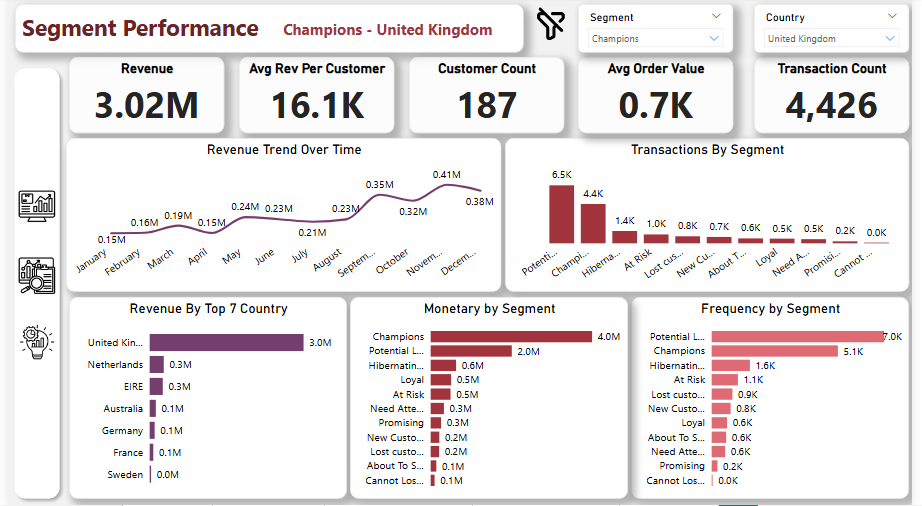

The page's visual inventory and layout, read from the dashboard file:
{"tool":"powerbi","page":{"name":"Segment Per.","canvas":[1280,720],"ordinal":1},"visuals":[{"type":"textbox","box":[9.9,9.9,721.4,69.4],"z":0},{"type":"card","title":"Revenue","fields":{"Values":["All_Measures.Sales"]},"box":[86.5,85,219.7,107.7],"z":1000},{"type":"card","title":"Customer Count","fields":{"Values":["All_Measures.Customer Count"]},"box":[567.6,85,219.7,107.7],"z":2000},{"type":"card","title":"Transaction Count","fields":{"Values":["All_Measures.Transaction Count"]},"box":[1057.3,85,219.7,107.7],"z":3000},{"type":"card","title":"Avg Rev Per Customer","fields":{"Values":["All_Measures.Avg Revenue Per Customer"]},"box":[327,85,219.7,107.7],"z":4000},{"type":"actionButton","box":[360,18.4,357.2,53.9],"z":5000},{"type":"shape","box":[0,92.1,82.2,627.9],"z":5000,"group":"g1"},{"type":"lineChart","title":"Revenue Trend Over Time","fields":{"Y":["All_Measures.Revenue"],"Category":["Online_Retail.InvoiceDate.Variation.Date Hierarchy.Month"]},"box":[82.2,199.8,616.5,218.3],"z":6000},{"type":"clusteredColumnChart","title":"Transactions By Segment","fields":{"Y":["All_Measures.Transaction Count"],"Category":["Segments.Segment"]},"box":[704.4,199.8,572.6,218.3],"z":7000},{"type":"card","title":"Avg Order Value","fields":{"Values":["All_Measures.Avg Order Value"]},"box":[808.2,85,219.7,107.7],"z":8000},{"type":"clusteredBarChart","title":"Revenue By Top 7 Country","fields":{"Category":["Online_Retail.Country"],"Y":["All_Measures.Revenue"]},"box":[86.5,425.2,394,286.3],"z":9000},{"type":"slicer","fields":{"Values":["Segments.Segment"]},"box":[807.9,9.9,219.7,69.4],"z":10000},{"type":"slicer","fields":{"Values":["Online_Retail.Country"]},"box":[1057.3,9.9,219.7,69.4],"z":11000},{"type":"image","box":[738.4,9.9,62.4,62.4],"z":12000},{"type":"clusteredBarChart","title":"Frequency by Segment","fields":{"Category":["Segments.Segment"],"Y":["Sum(RFM Table.F Value)"]},"box":[883,425.2,394,286.3],"z":13000},{"type":"clusteredBarChart","title":"Monetary by Segment","fields":{"Category":["Segments.Segment"],"Y":["Sum(RFM Table.M Value)"]},"box":[484.7,425.2,394,286.3],"z":14000},{"type":"group","id":"g1","title":"Group 1","box":[0,92.1,82.2,627.9],"z":15000},{"type":"image","box":[9.9,256.5,62.4,80.8],"z":15000,"group":"g1"},{"type":"image","box":[9.9,360.6,62.4,69.4],"z":16000,"group":"g1"},{"type":"image","box":[10,453.3,62.9,71.5],"z":17003,"group":"g1"}]}

Visuals, with their boxes in screenshot pixels (x1, y1, x2, y2), scaled from the page's 1280x720 canvas onto the 922x506 screenshot:
textbox: 7/7/527/56
"Revenue" card: 62/60/221/135
"Customer Count" card: 409/60/567/135
"Transaction Count" card: 762/60/920/135
"Avg Rev Per Customer" card: 236/60/394/135
actionButton: 259/13/517/51
shape: 0/65/59/505
"Revenue Trend Over Time" lineChart: 59/140/503/294
"Transactions By Segment" clusteredColumnChart: 507/140/920/294
"Avg Order Value" card: 582/60/740/135
"Revenue By Top 7 Country" clusteredBarChart: 62/299/346/500
slicer - Segments.Segment: 582/7/740/56
slicer - Online_Retail.Country: 762/7/920/56
image: 532/7/577/51
"Frequency by Segment" clusteredBarChart: 636/299/920/500
"Monetary by Segment" clusteredBarChart: 349/299/633/500
"Group 1" group: 0/65/59/505
image: 7/180/52/237
image: 7/253/52/302
image: 7/319/53/369
